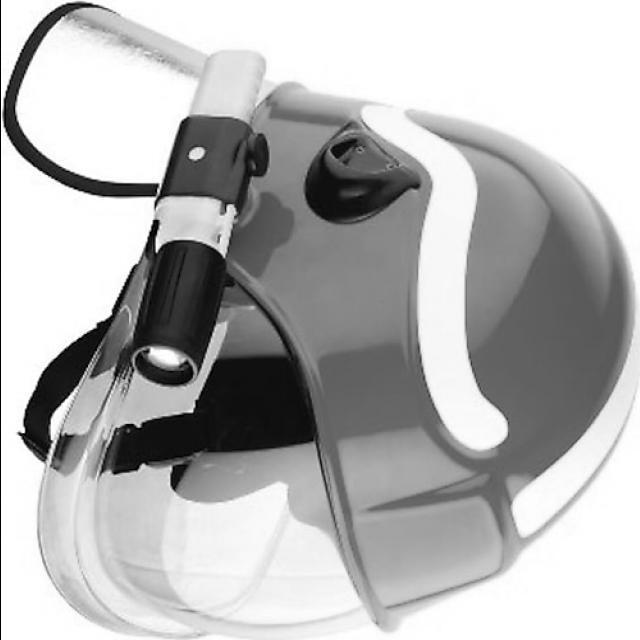safety_helmet: (17, 81, 635, 636)
